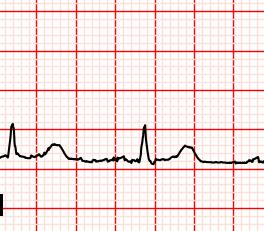Poor R Progression: (138, 120, 152, 167), (4, 121, 21, 157)
